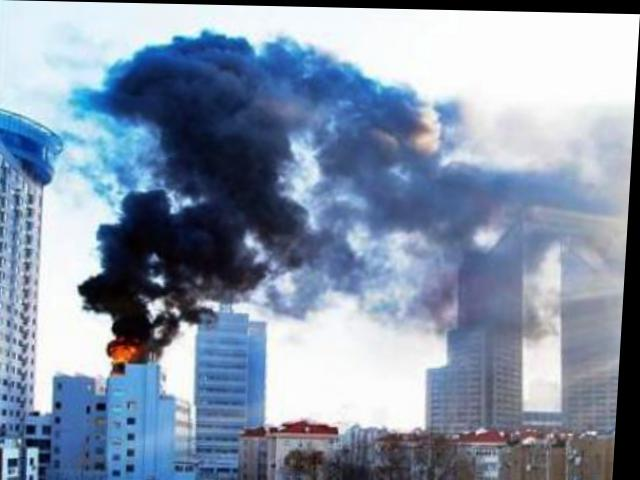fire: (112, 342, 137, 359)
